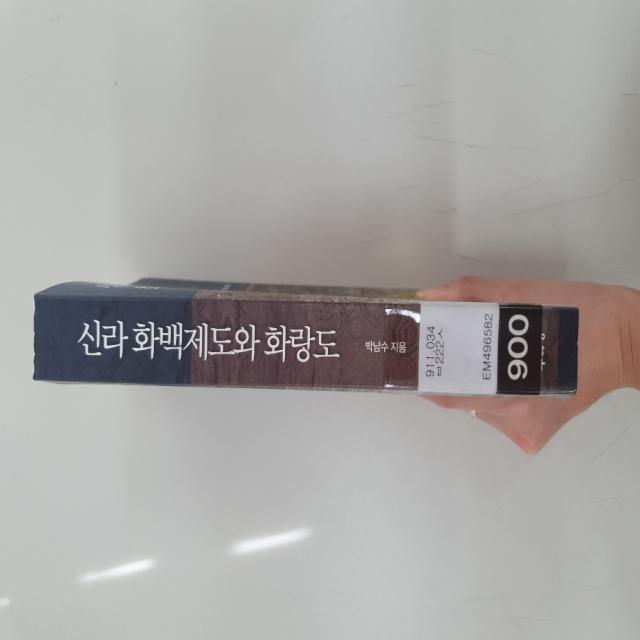Wornout: (29, 328, 44, 386), (30, 293, 44, 319), (575, 331, 584, 351)
